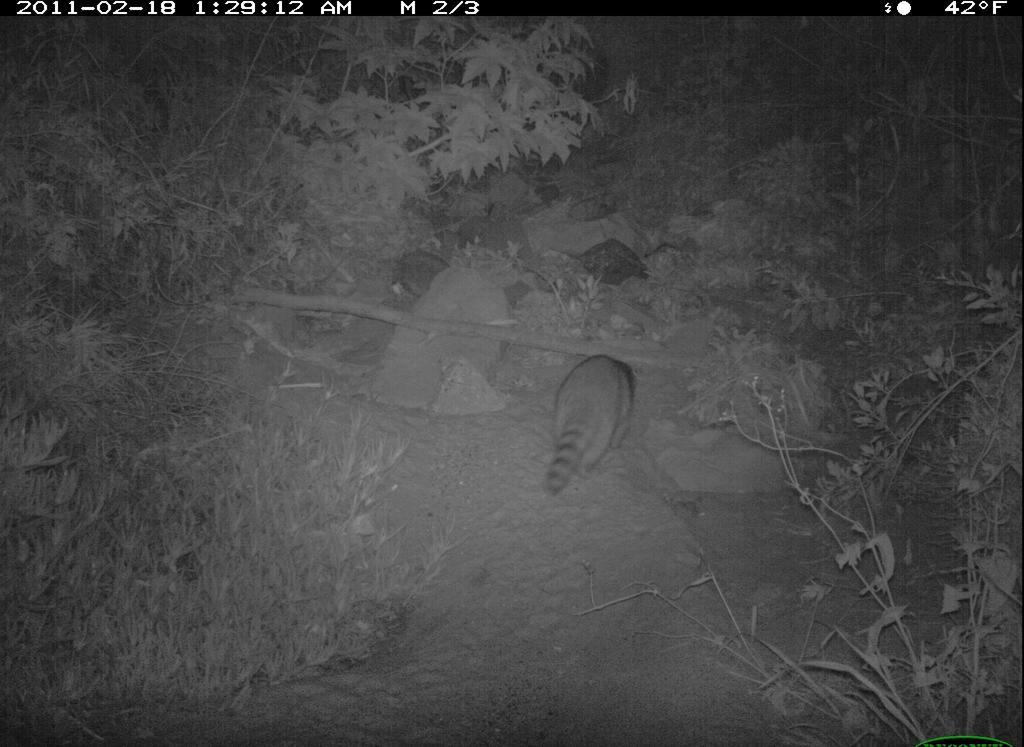raccoon: (532, 345, 653, 509)
